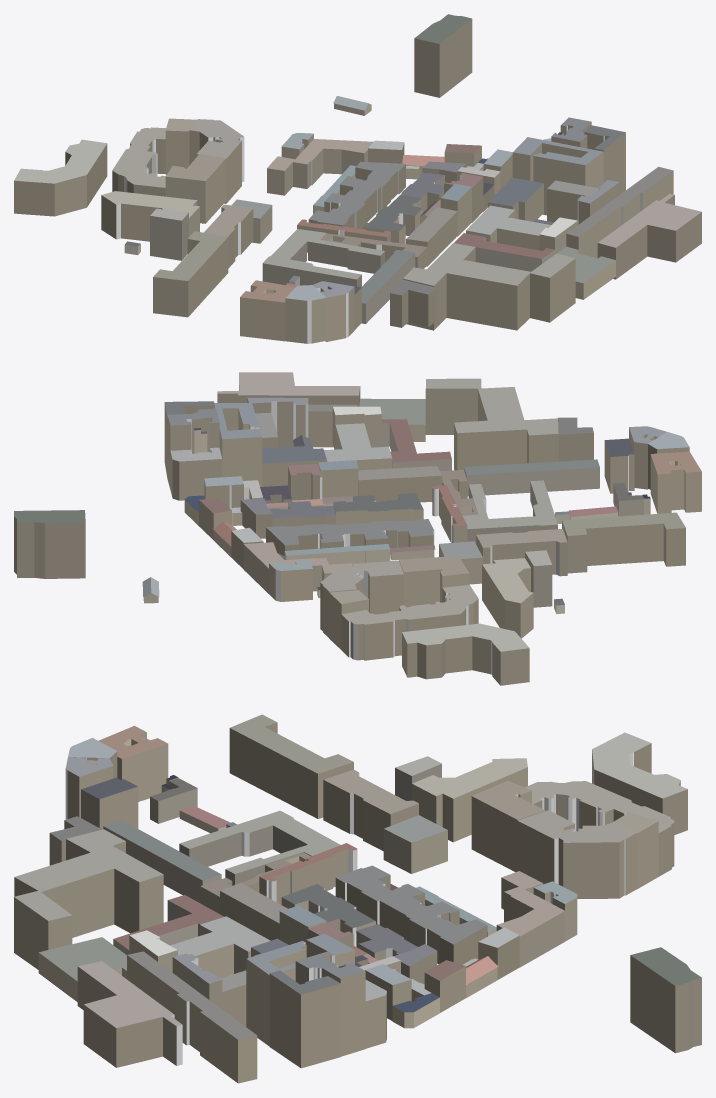
3 renders of one model, top to bottom at view 1: azimuth 30°, elevation 25°; view 2: azimuth 150°, elevation 25°; view 3: azimuth 270°, elevation 25°, orthographic. The views are drawn at different scales.
Parts seen in each view (by area): view 1: tuile; view 2: tuile; view 3: tuile.
Part boxes in pixels (left/top/right/bottom): tuile: left=14, top=14, right=701, bottom=343; tuile: left=14, top=372, right=701, bottom=685; tuile: left=14, top=714, right=701, bottom=1083.
Size of the model in its own units: 303 by 37.36 by 283.
